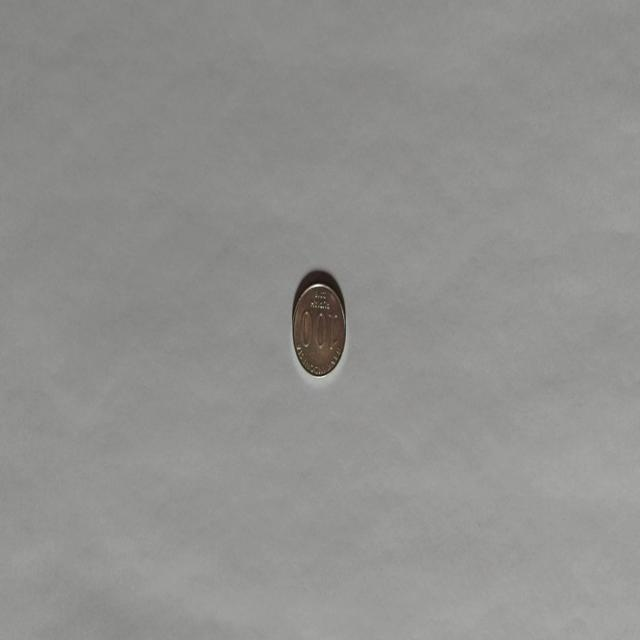seratus rupiah: (291, 276, 346, 378)
